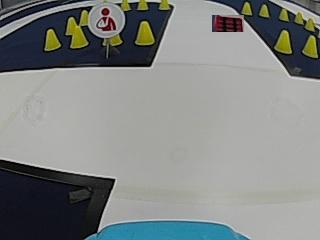cone: (134, 20, 154, 46), (69, 22, 88, 48), (275, 30, 292, 54), (43, 28, 61, 50), (303, 35, 317, 57), (258, 4, 270, 17), (241, 2, 253, 15), (304, 17, 315, 30), (79, 9, 88, 24), (158, 0, 170, 11), (278, 8, 288, 21), (294, 11, 304, 24), (137, 0, 148, 11), (120, 0, 131, 11)
patient: (94, 4, 123, 37)
